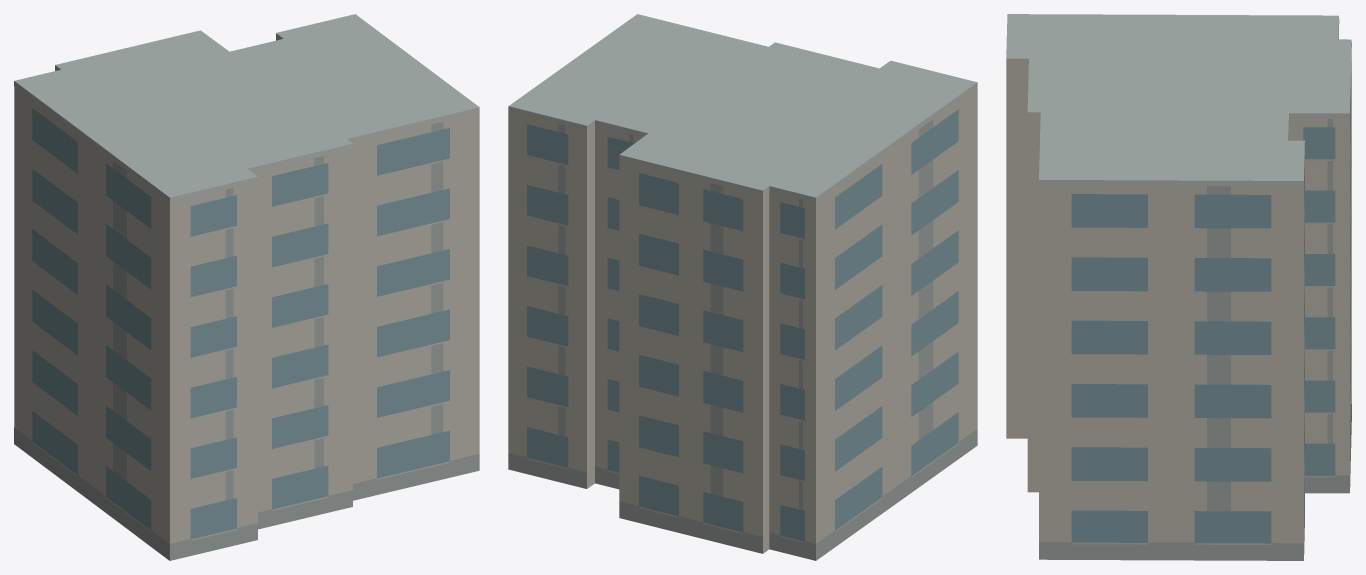
Rendered from survey-upis-32941524.glb.
3 renders of one model, left to right at view 1: azimuth 30°, elevation 25°; view 2: azimuth 150°, elevation 25°; view 3: azimuth 270°, elevation 25°, orthographic. The views are drawn at different scales.
Parts seen in each view (by area): view 1: survey-upis-32941524.tmp; view 2: survey-upis-32941524.tmp; view 3: survey-upis-32941524.tmp.
Boxes of the visible parts, x1,y1,x2,y2 form: survey-upis-32941524.tmp: (14, 14, 479, 560); survey-upis-32941524.tmp: (508, 14, 977, 560); survey-upis-32941524.tmp: (1006, 14, 1351, 560).
Size of the model in its own units: 15.19 by 16.1 by 13.28.
